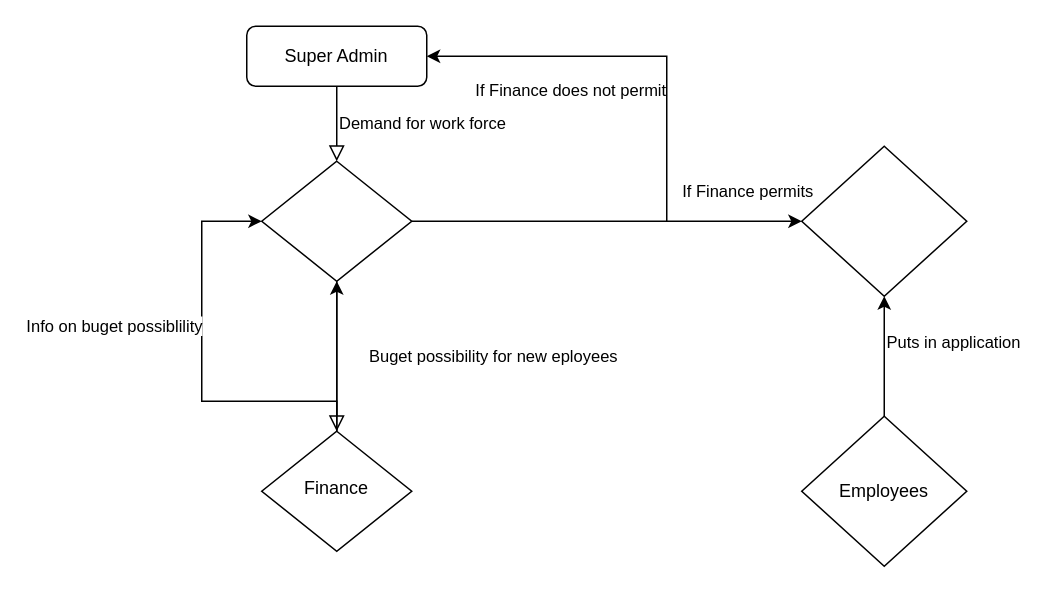
Image size: 1046x593. Some labels were removed from this diagram. The shapes that lost their labels are listed below. From the top down, each one's centre as x and y in pixels, then its label:
At (336,220): "Human Ressources".
At (883,220): "Opens portal for new applications".
